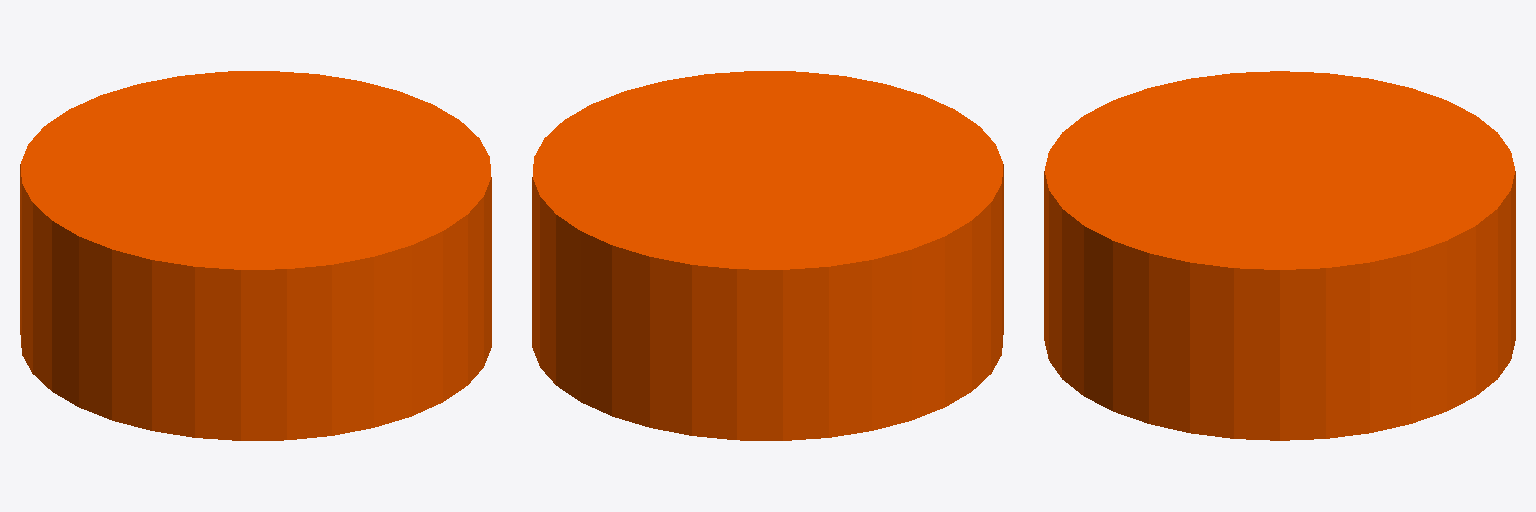
The robot description file, URDF, robot "quadrotor":
<robot name="quadrotor">
    <link name="quad_body">
        <visual>
            <origin xyz="0 0 0" rpy="0 0 0"/>
            <geometry>
                <cylinder radius="0.2" length="0.16"/>
            </geometry>
            <material name="yellow">
                <color rgba="1 0.4 0 1"/>
            </material>
        </visual>
    </link>
</robot>

--- Facts derived from the render (not from the file) ---
3 views of the same robot in one strip: view 1: azimuth 30°, elevation 25°; view 2: azimuth 150°, elevation 25°; view 3: azimuth 270°, elevation 25° (orthographic).
Robot: quadrotor — 1 links, 0 joints (none); root link quad_body; default pose: every joint at zero.
Links seen in each view (by area): view 1: quad_body; view 2: quad_body; view 3: quad_body.
Link boxes in pixels (box(x1,y1,x2,y2)): quad_body: box(20, 71, 491, 440); quad_body: box(532, 71, 1003, 440); quad_body: box(1044, 71, 1515, 440).
Bounding box of the posed robot: 0.4 × 0.4 × 0.16 m (x, y, z).
Geometry: primitives only (box / cylinder / sphere), no mesh files.